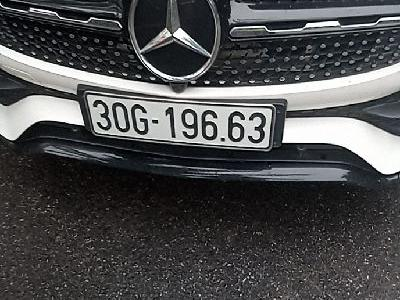lisence: (81, 87, 276, 153)
